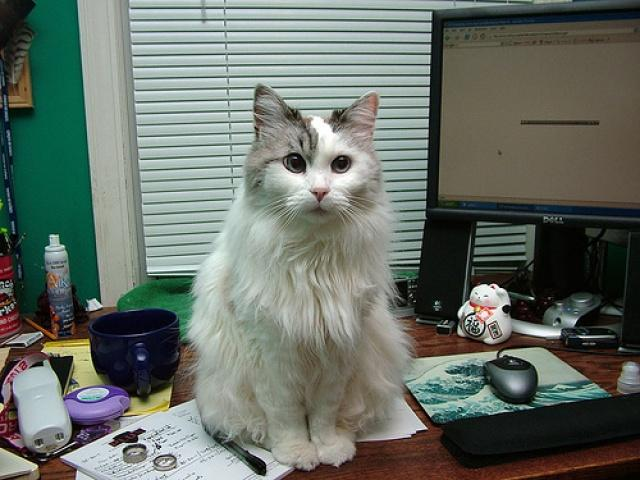AIO PC-Monitor-TV: (423, 0, 639, 230)
